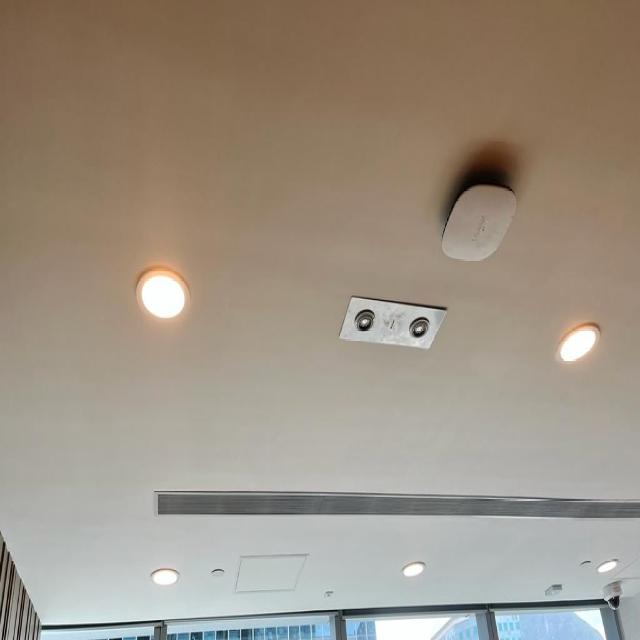Light-Opened: (130, 260, 193, 324), (553, 316, 603, 369), (148, 560, 182, 591), (398, 556, 428, 580), (596, 552, 620, 579)
